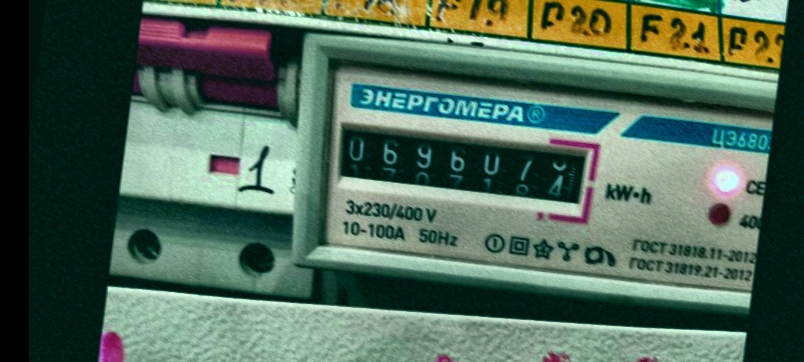0: (481, 146, 503, 178), (347, 133, 367, 163)
4: (546, 169, 566, 200)
6: (448, 143, 469, 174), (381, 137, 401, 166)
7: (514, 151, 537, 184)
9: (413, 141, 435, 171)
screen: (321, 107, 606, 225)
